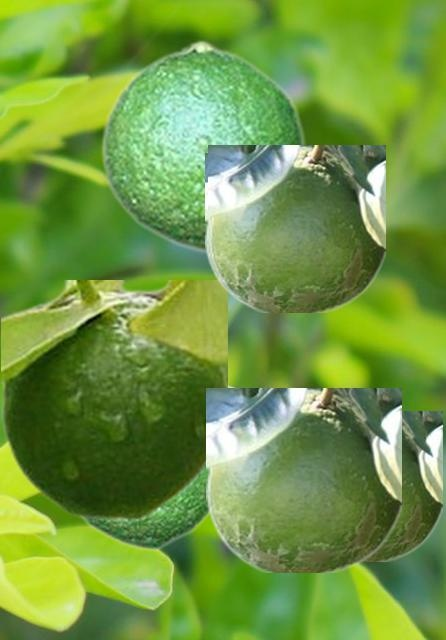dalandan: (1, 280, 226, 519), (99, 39, 306, 253), (206, 388, 400, 571), (208, 145, 384, 311), (368, 411, 441, 560), (77, 470, 208, 550), (205, 153, 243, 306)
